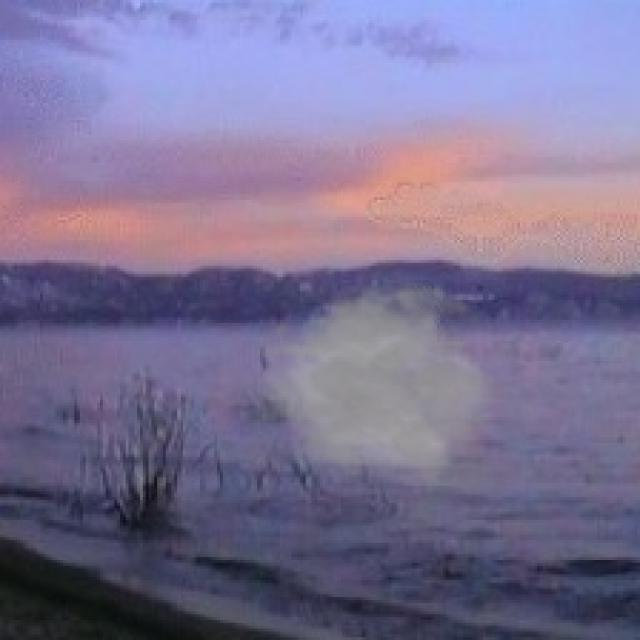smoke: (248, 266, 506, 486)
